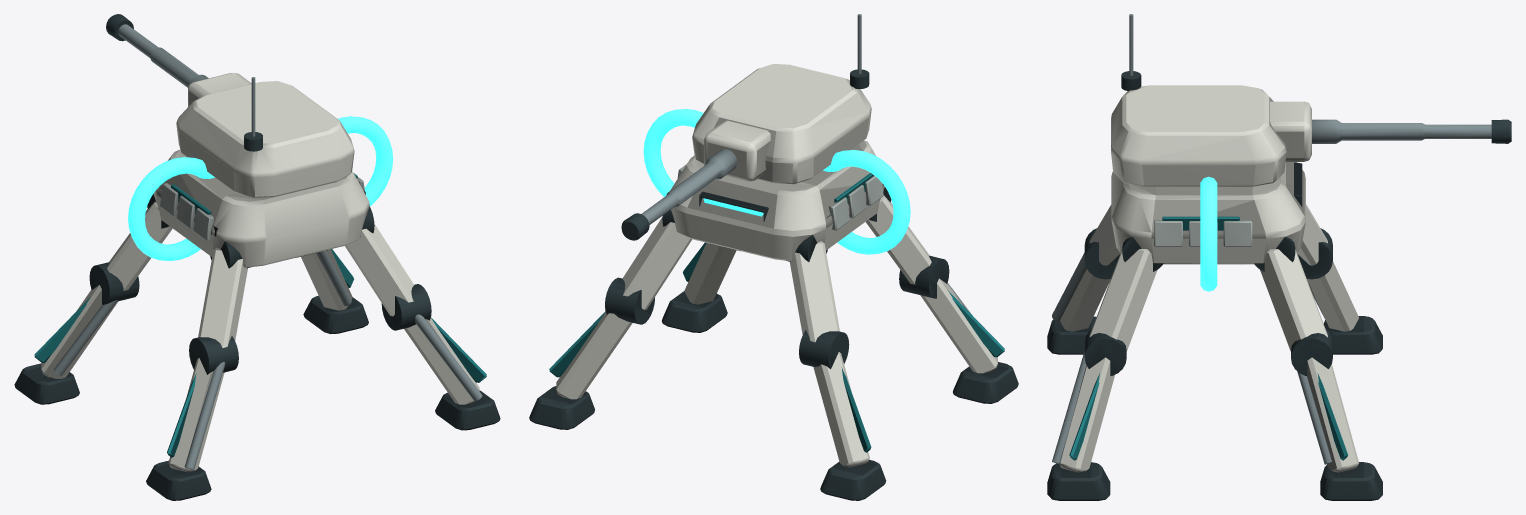
Rendered from PhaseLancer.glb.
3 renders of one model, left to right at view 1: azimuth 30°, elevation 25°; view 2: azimuth 150°, elevation 25°; view 3: azimuth 270°, elevation 25°, orthographic. The views are drawn at different scales.
Parts seen in each view (by area): view 1: export_PhaseLancer.001_Body, export_PhaseLancer.001_GunPod, export_PhaseLancer.001_KneeJoint, export_PhaseLancer.001_KneeJoint.002, export_PhaseLancer.001_KneeJoint.001, export_PhaseLancer.001_HipJoint, export_PhaseLancer.001_HipJoint.002, export_PhaseLancer.001_GunMantlet, export_PhaseLancer.001_KneeJoint.003, export_PhaseLancer.001_HipJoint.001, export_PhaseLancer.001_Foot, export_PhaseLancer.001_Foot.001 (+2 smaller); view 2: export_PhaseLancer.001_Body, export_PhaseLancer.001_GunPod, export_PhaseLancer.001_GunMantlet, export_PhaseLancer.001_KneeJoint.001, export_PhaseLancer.001_KneeJoint.003, export_PhaseLancer.001_KneeJoint, export_PhaseLancer.001_HipJoint.001, export_PhaseLancer.001_HipJoint.003, export_PhaseLancer.001_KneeJoint.002, export_PhaseLancer.001_HipJoint, export_PhaseLancer.001_Foot.001, export_PhaseLancer.001_Foot.003 (+2 smaller); view 3: export_PhaseLancer.001_GunPod, export_PhaseLancer.001_Body, export_PhaseLancer.001_GunMantlet, export_PhaseLancer.001_KneeJoint.002, export_PhaseLancer.001_KneeJoint.003, export_PhaseLancer.001_HipJoint.003, export_PhaseLancer.001_HipJoint.002, export_PhaseLancer.001_KneeJoint, export_PhaseLancer.001_KneeJoint.001, export_PhaseLancer.001_Foot.002, export_PhaseLancer.001_Foot.003, export_PhaseLancer.001_Foot.001 (+3 smaller).
Part boxes in pixels (bbox=[...]): export_PhaseLancer.001_Body: bbox=[128, 116, 393, 267]; export_PhaseLancer.001_GunPod: bbox=[176, 77, 354, 198]; export_PhaseLancer.001_KneeJoint: bbox=[167, 336, 238, 472]; export_PhaseLancer.001_KneeJoint.002: bbox=[381, 284, 486, 404]; export_PhaseLancer.001_KneeJoint.001: bbox=[34, 262, 139, 378]; export_PhaseLancer.001_HipJoint: bbox=[198, 241, 251, 348]; export_PhaseLancer.001_HipJoint.002: bbox=[345, 206, 413, 316]; export_PhaseLancer.001_GunMantlet: bbox=[106, 14, 251, 106]; export_PhaseLancer.001_KneeJoint.003: bbox=[297, 249, 353, 310]; export_PhaseLancer.001_HipJoint.001: bbox=[107, 194, 172, 290]; export_PhaseLancer.001_Foot: bbox=[146, 460, 211, 500]; export_PhaseLancer.001_Foot.001: bbox=[14, 363, 79, 404]; export_PhaseLancer.001_Body: bbox=[643, 109, 910, 261]; export_PhaseLancer.001_GunPod: bbox=[692, 14, 871, 184]; export_PhaseLancer.001_GunMantlet: bbox=[621, 120, 770, 240]; export_PhaseLancer.001_KneeJoint.001: bbox=[799, 330, 871, 467]; export_PhaseLancer.001_KneeJoint.003: bbox=[549, 277, 654, 399]; export_PhaseLancer.001_KneeJoint: bbox=[899, 255, 1004, 373]; export_PhaseLancer.001_HipJoint.001: bbox=[786, 235, 839, 342]; export_PhaseLancer.001_HipJoint.003: bbox=[622, 210, 692, 310]; export_PhaseLancer.001_KneeJoint.002: bbox=[683, 242, 740, 304]; export_PhaseLancer.001_HipJoint: bbox=[866, 187, 931, 284]; export_PhaseLancer.001_Foot.001: bbox=[820, 459, 886, 500]; export_PhaseLancer.001_Foot.003: bbox=[529, 386, 594, 429]; export_PhaseLancer.001_GunPod: bbox=[1111, 14, 1286, 186]; export_PhaseLancer.001_Body: bbox=[1111, 162, 1305, 291]; export_PhaseLancer.001_GunMantlet: bbox=[1270, 101, 1511, 161]; export_PhaseLancer.001_KneeJoint.002: bbox=[1052, 329, 1126, 472]; export_PhaseLancer.001_KneeJoint.003: bbox=[1291, 328, 1358, 472]; export_PhaseLancer.001_HipJoint.003: bbox=[1254, 237, 1327, 351]; export_PhaseLancer.001_HipJoint.002: bbox=[1089, 237, 1163, 351]; export_PhaseLancer.001_KneeJoint: bbox=[1052, 228, 1119, 331]; export_PhaseLancer.001_KneeJoint.001: bbox=[1297, 228, 1358, 331]; export_PhaseLancer.001_Foot.002: bbox=[1047, 462, 1110, 500]; export_PhaseLancer.001_Foot.003: bbox=[1320, 462, 1382, 500]; export_PhaseLancer.001_Foot.001: bbox=[1324, 316, 1382, 354].
Size of the model in its own units: 3.61 by 3.78 by 4.19.
